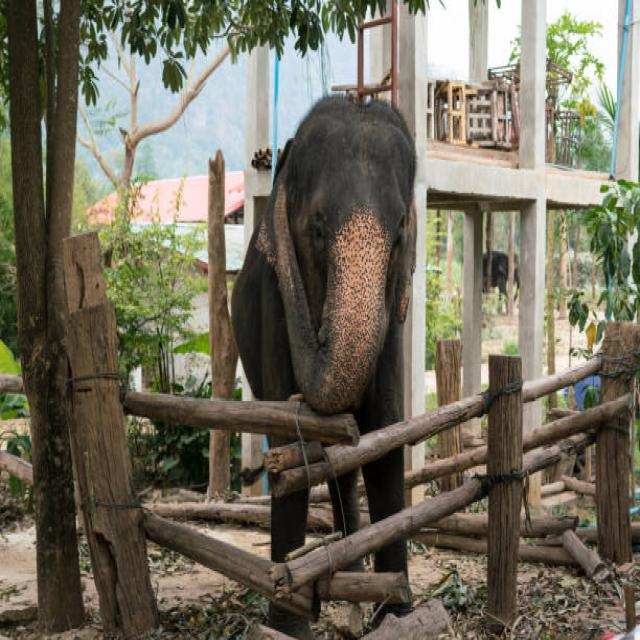Elephant: (232, 84, 437, 606)
